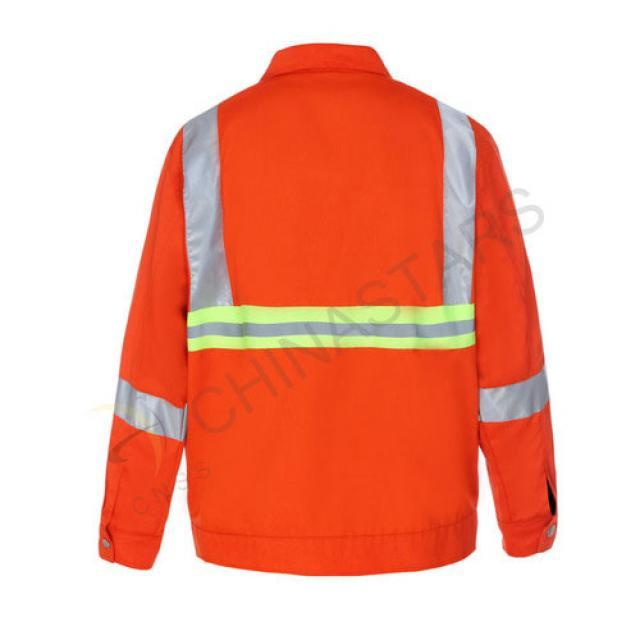reflective_jacket: (87, 28, 574, 591)
